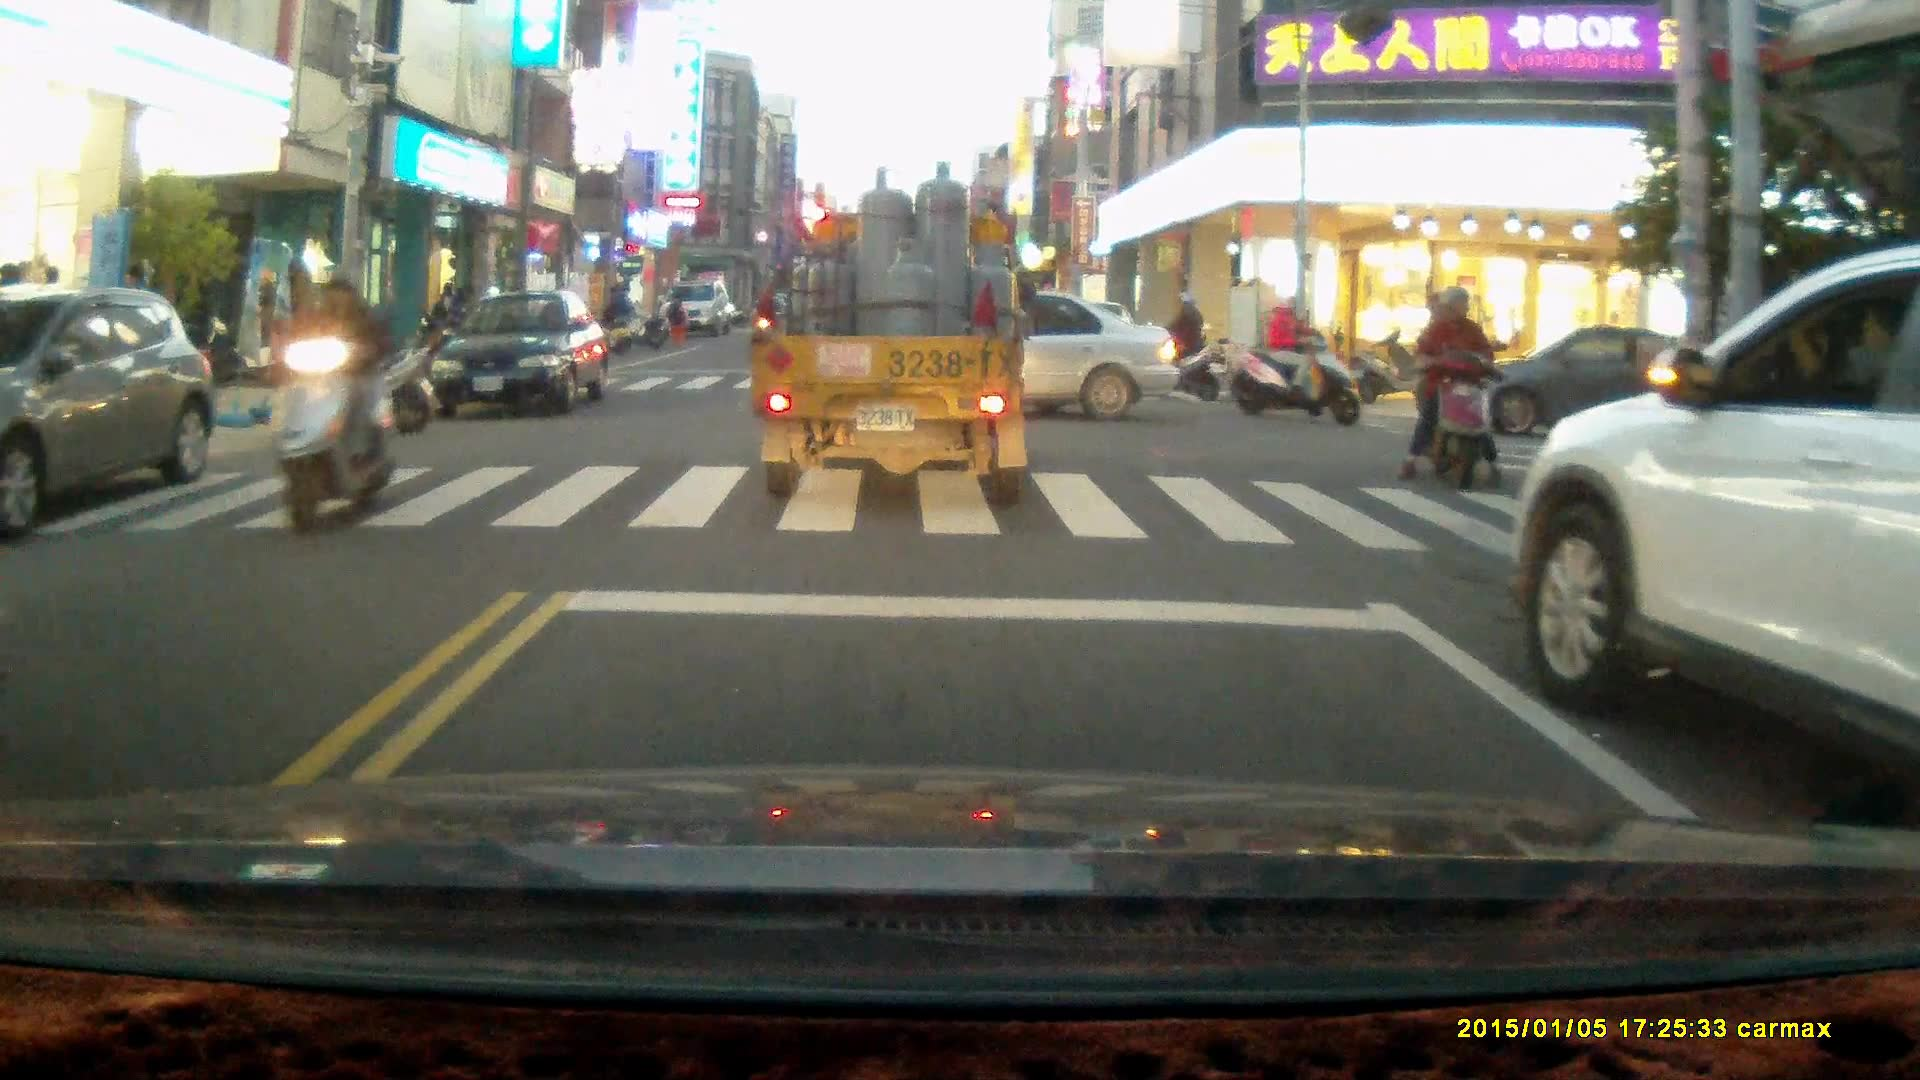pedestrian: (608, 280, 635, 343), (666, 289, 688, 346)
rider: (271, 262, 396, 533), (1397, 285, 1513, 496), (1229, 292, 1364, 425), (1127, 286, 1222, 402)
vehicle: (1512, 245, 1920, 810), (756, 167, 1031, 521), (785, 289, 1181, 422), (1456, 324, 1720, 438), (431, 292, 612, 416), (660, 282, 731, 336)
